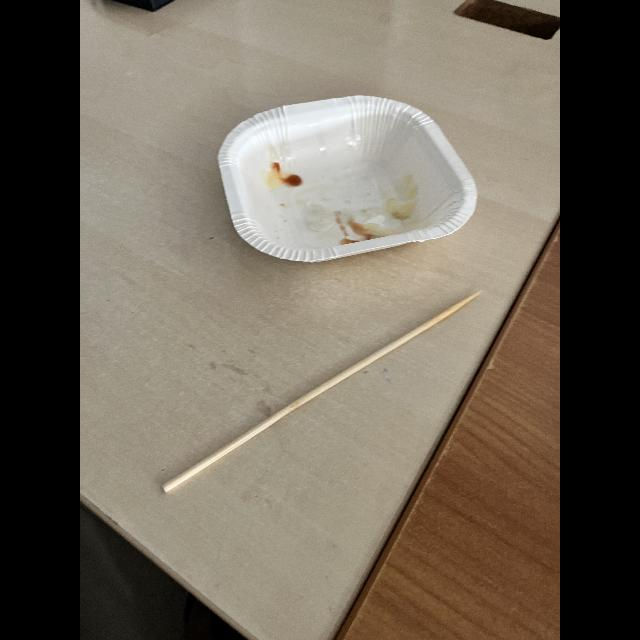cardboard_bowl: (205, 88, 482, 266)
stick: (153, 284, 481, 496)
